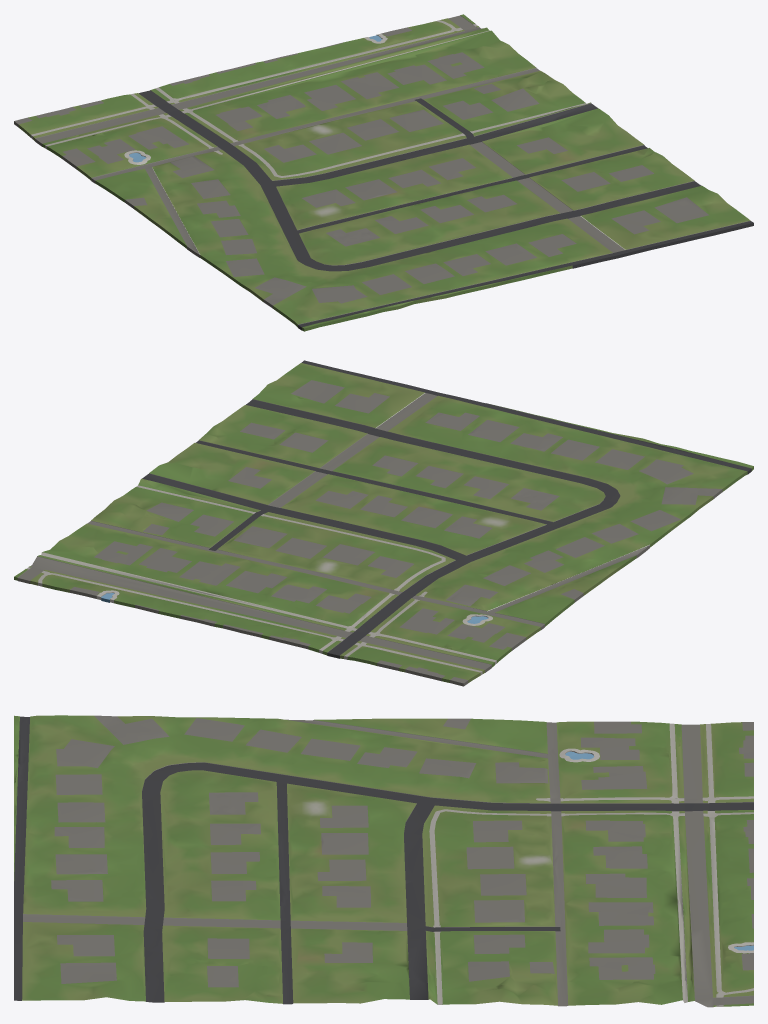
The model's file is T-3-1.L2.eccf25a1.glb.
3 views of the same model, one above another, from view 1: azimuth 30°, elevation 25°; view 2: azimuth 150°, elevation 25°; view 3: azimuth 270°, elevation 25° (orthographic). The views are drawn at different scales.
Parts seen in each view (by area): view 1: T-3-1.L2:utd:matte; view 2: T-3-1.L2:utd:matte; view 3: T-3-1.L2:utd:matte.
Part boxes in pixels (box(x1,y1,x2,y2)): T-3-1.L2:utd:matte: box(14, 14, 753, 331); T-3-1.L2:utd:matte: box(14, 360, 753, 686); T-3-1.L2:utd:matte: box(14, 715, 753, 1007).
Bounding box in the file's own units: 229 × 5.82 × 256.
